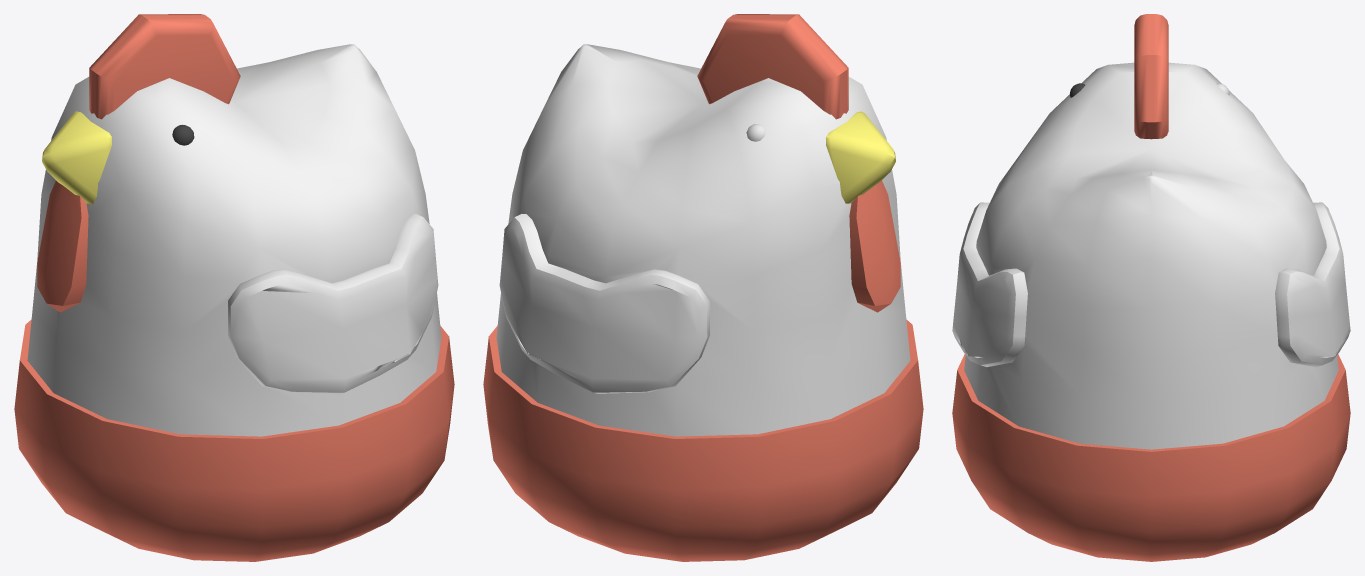
File: Asset027_Galinha.fbx
3 views of the same model, side by side, from view 1: azimuth 30°, elevation 25°; view 2: azimuth 150°, elevation 25°; view 3: azimuth 270°, elevation 25° (orthographic). The views are drawn at different scales.
Visible parts, largest first — view 1: Cylinder, Cylinder_1, Cylinder_2, Pyramid; view 2: Cylinder, Cylinder_1, Cylinder_2, Pyramid; view 3: Cylinder, Cylinder_1, Cylinder_2.
Part boxes in pixels (box(x1,y1,x2,y2)): Cylinder: box(27, 44, 441, 436); Cylinder_1: box(14, 319, 454, 561); Cylinder_2: box(89, 14, 240, 119); Pyramid: box(42, 111, 111, 203); Cylinder: box(496, 44, 910, 436); Cylinder_1: box(483, 319, 923, 561); Cylinder_2: box(697, 14, 848, 119); Pyramid: box(826, 111, 895, 203); Cylinder: box(952, 62, 1350, 449); Cylinder_1: box(952, 354, 1350, 561); Cylinder_2: box(1134, 14, 1168, 139).
Bounding box in the file's own units: 21.62 × 27.33 × 21.62.
